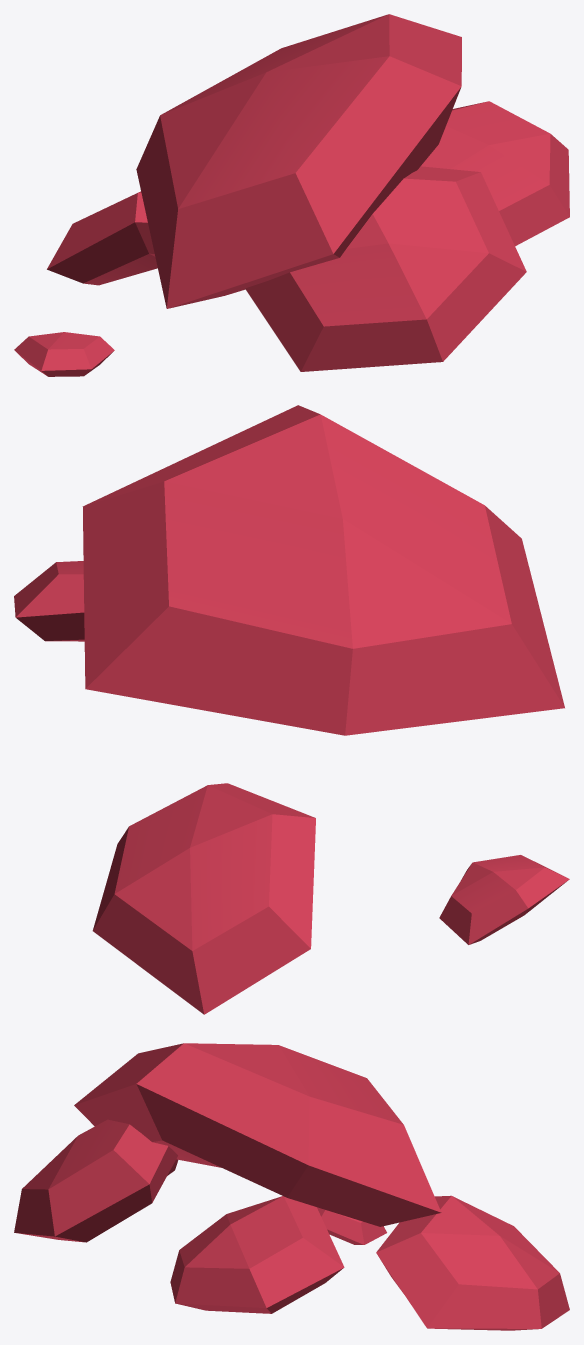
The model's file is albero9.fbx.
3 views of the same model, one above another, from view 1: azimuth 30°, elevation 25°; view 2: azimuth 150°, elevation 25°; view 3: azimuth 270°, elevation 25° (orthographic). The views are drawn at different scales.
Visible parts, largest first — view 1: polySurface11, polySurface9, polySurface7, polySurface10, polySurface8; view 2: polySurface11, polySurface10, polySurface8, polySurface7; view 3: polySurface11, polySurface10, polySurface7, polySurface9, polySurface8.
Boxes of the visible parts, <box> form: polySurface11: <box>136,14,461,308</box>; polySurface9: <box>245,166,526,371</box>; polySurface7: <box>421,101,569,246</box>; polySurface10: <box>47,191,157,285</box>; polySurface8: <box>14,332,114,376</box>; polySurface11: <box>82,405,564,735</box>; polySurface10: <box>92,783,315,1014</box>; polySurface8: <box>439,855,569,944</box>; polySurface7: <box>14,561,84,641</box>; polySurface11: <box>74,1043,441,1226</box>; polySurface10: <box>376,1195,569,1330</box>; polySurface7: <box>170,1196,344,1313</box>; polySurface9: <box>14,1119,178,1242</box>; polySurface8: <box>317,1207,386,1244</box>.
Bounding box in the file's own units: 304 × 198 × 316.
